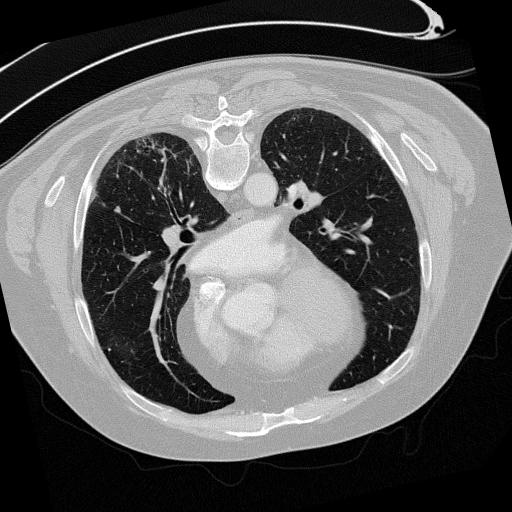nodule: (110, 205, 123, 218)
